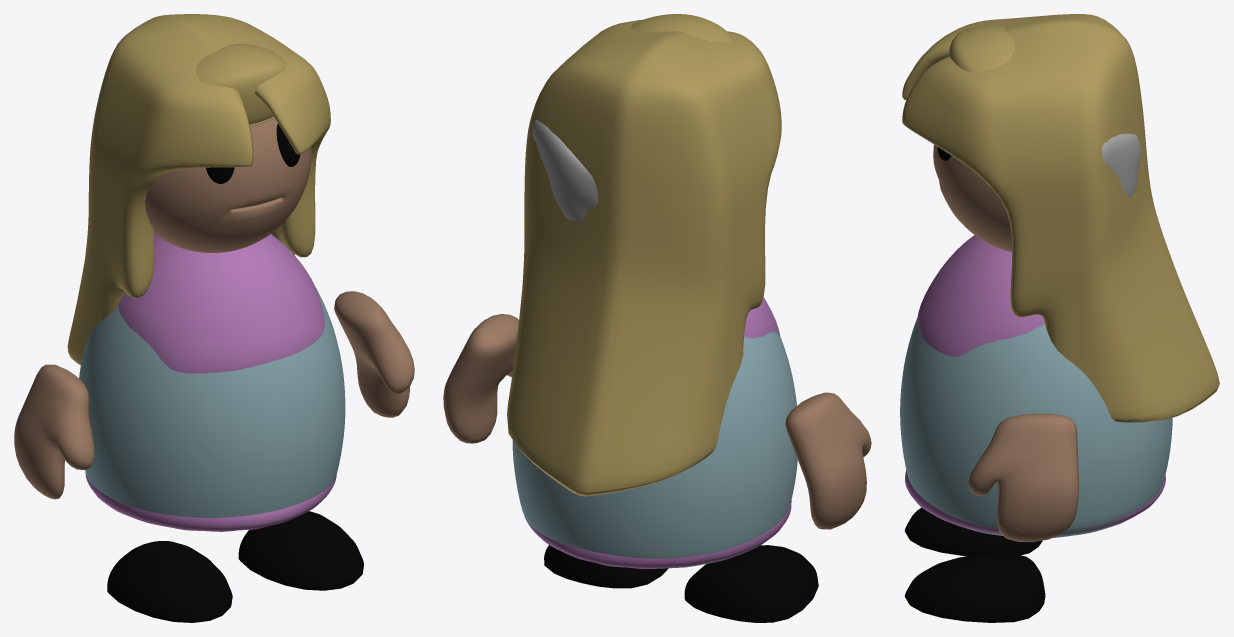
Rendered from Person_No_Rig.fbx.
3 renders of one model, left to right at view 1: azimuth 30°, elevation 25°; view 2: azimuth 150°, elevation 25°; view 3: azimuth 270°, elevation 25°, orthographic. The views are drawn at different scales.
Parts seen in each view (by area): view 1: Male_Body_Smooth, Female_Hair_Long_Smooth, Female_Body_Smooth, Feet_Smooth, Hands_Smooth, Basic_Head_Smooth, Hair_Short_Smooth, Eyes_Smooth; view 2: Female_Hair_Long_Smooth, Male_Body_Smooth, Hands_Smooth, Feet_Smooth, Female_Body_Smooth, Male_Hair_Balding_Smooth, Hair_Short_Smooth; view 3: Female_Hair_Long_Smooth, Male_Body_Smooth, Feet_Smooth, Hands_Smooth, Female_Body_Smooth, Basic_Head_Smooth, Hair_Short_Smooth, Male_Hair_Balding_Smooth.
Part boxes in pixels (bbox=[...]): Male_Body_Smooth: bbox=[79, 287, 345, 517]; Female_Hair_Long_Smooth: bbox=[67, 14, 330, 365]; Female_Body_Smooth: bbox=[85, 234, 336, 531]; Feet_Smooth: bbox=[107, 511, 363, 622]; Hands_Smooth: bbox=[14, 291, 414, 499]; Basic_Head_Smooth: bbox=[145, 118, 311, 252]; Hair_Short_Smooth: bbox=[196, 43, 286, 124]; Eyes_Smooth: bbox=[206, 124, 300, 183]; Female_Hair_Long_Smooth: bbox=[507, 19, 781, 496]; Male_Body_Smooth: bbox=[512, 331, 797, 568]; Hands_Smooth: bbox=[443, 314, 871, 529]; Feet_Smooth: bbox=[544, 545, 818, 622]; Female_Body_Smooth: bbox=[524, 297, 791, 569]; Male_Hair_Balding_Smooth: bbox=[532, 120, 598, 222]; Hair_Short_Smooth: bbox=[631, 14, 732, 42]; Female_Hair_Long_Smooth: bbox=[902, 14, 1219, 422]; Male_Body_Smooth: bbox=[900, 318, 1172, 537]; Feet_Smooth: bbox=[904, 507, 1045, 622]; Hands_Smooth: bbox=[968, 413, 1078, 542]; Female_Body_Smooth: bbox=[905, 235, 1165, 535]; Basic_Head_Smooth: bbox=[933, 144, 1012, 251]; Hair_Short_Smooth: bbox=[949, 25, 1014, 72]; Male_Hair_Balding_Smooth: bbox=[1102, 133, 1140, 197].
Bounding box in the file's own units: 3.17 × 4.28 × 2.3.
